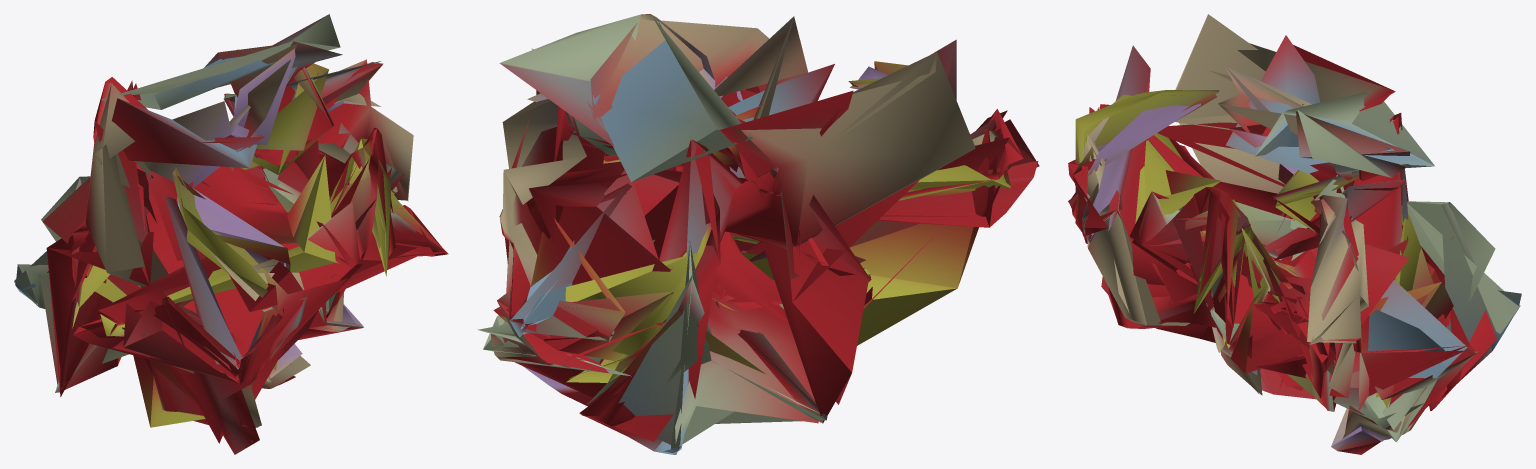
Rendered from hp-report.gltf.
3 views of the same model, side by side, from view 1: azimuth 30°, elevation 25°; view 2: azimuth 150°, elevation 25°; view 3: azimuth 270°, elevation 25° (orthographic). The views are drawn at different scales.
Visible parts, largest first — view 1: bets; view 2: bets; view 3: bets.
Boxes of the visible parts, left/top/right/bottom form: bets: left=14, top=14, right=448, bottom=454; bets: left=477, top=14, right=1039, bottom=454; bets: left=1068, top=14, right=1521, bottom=454.
Size of the model in its own units: 1188 by 949 by 1228.
1 material, 1 textured.
